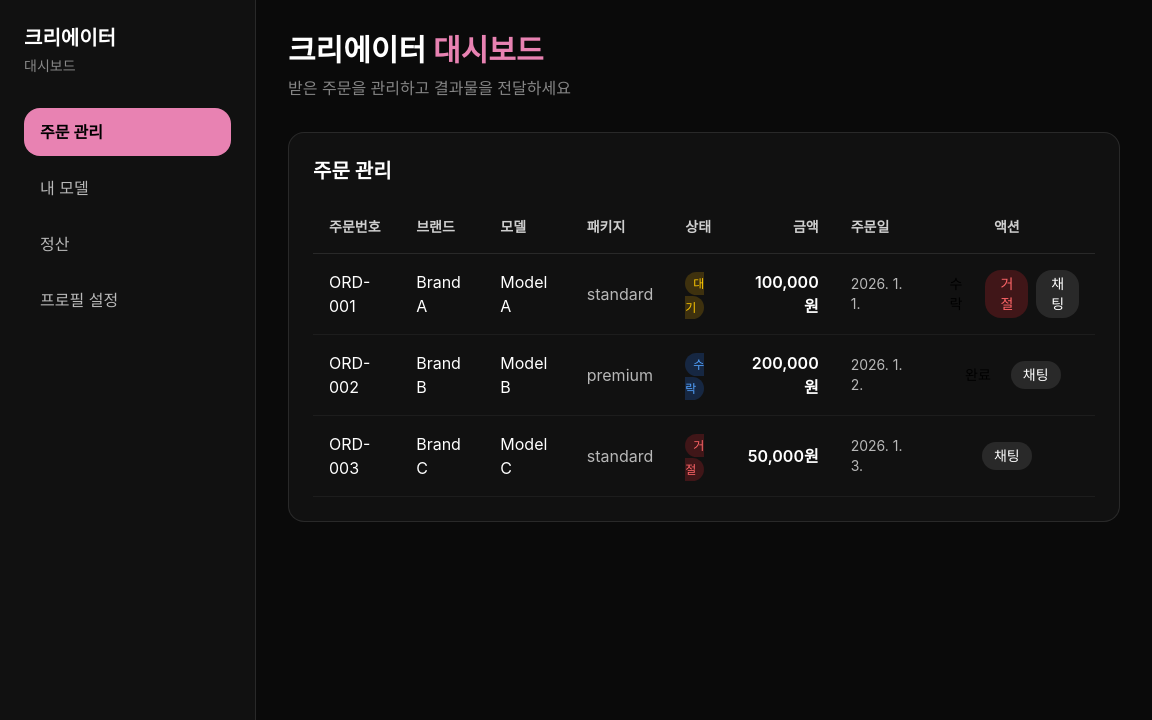
Test case: Creator Dashboard Integration Tests › Scenario 2: 주문 거절 › should open reject modal when reject button is clicked
The width and height of the screenshot is (1152, 720).
expect the text "ORD-001" is shown: met, box 313,254 -> 400,334
Click the button "거절" at {"x": 1007, "y": 294}, box 985,270 -> 1028,318
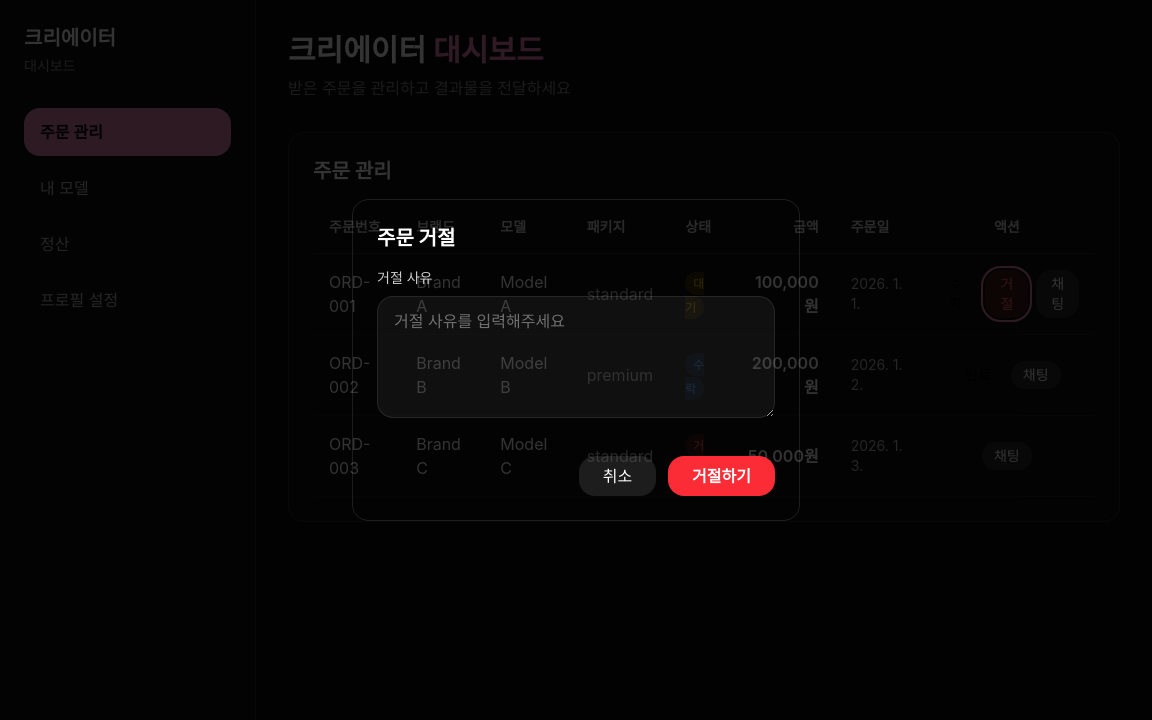
expect the text box is shown: met, box 377,296 -> 775,418
